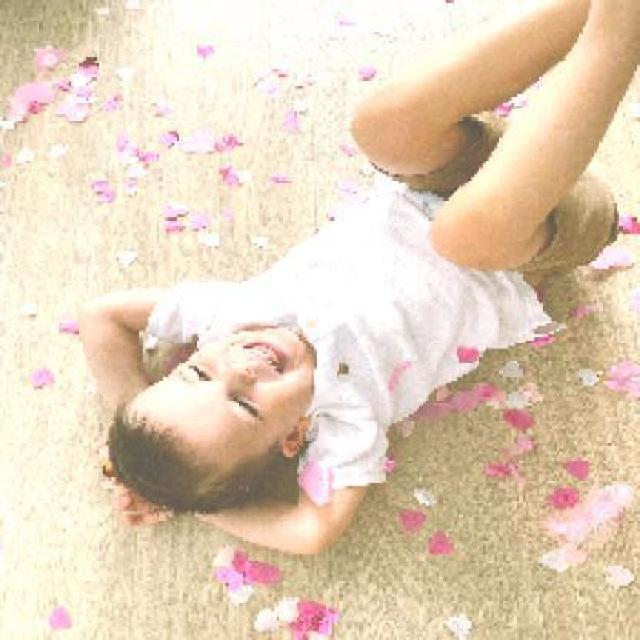child: (79, 0, 640, 555)
